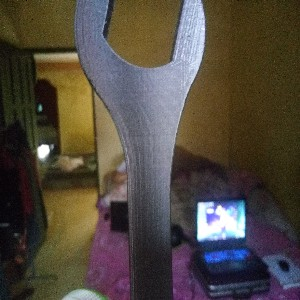spanner: (73, 1, 206, 300)
